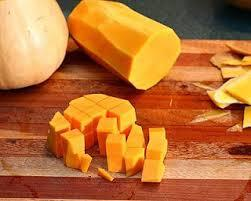Organic: (0, 1, 251, 201)
